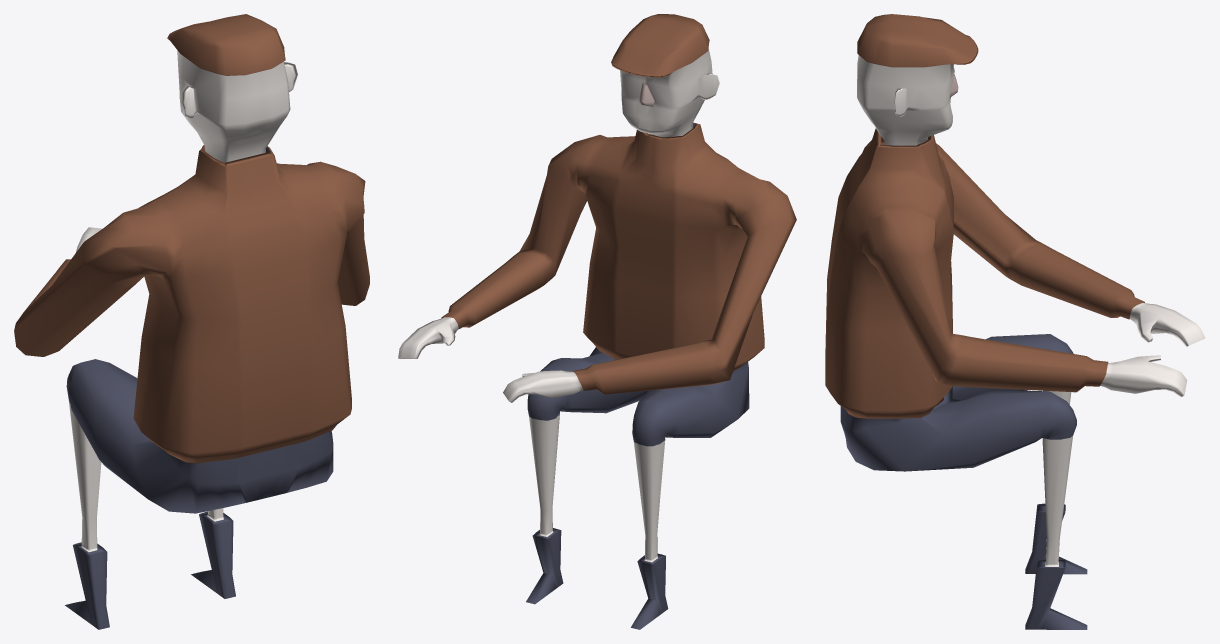
Rendered from DepressedNerd.fbx.
3 views of the same model, side by side, from view 1: azimuth 30°, elevation 25°; view 2: azimuth 150°, elevation 25°; view 3: azimuth 270°, elevation 25° (orthographic). The views are drawn at different scales.
Parts seen in each view (by area): view 1: polySurface1, polySurface2; view 2: polySurface1, polySurface2; view 3: polySurface1, polySurface2.
Boxes of the visible parts, bbox=[...] form: polySurface1: bbox=[14, 145, 369, 629]; polySurface2: bbox=[167, 14, 297, 162]; polySurface1: bbox=[398, 122, 796, 629]; polySurface2: bbox=[611, 14, 719, 137]; polySurface1: bbox=[825, 128, 1205, 629]; polySurface2: bbox=[857, 14, 978, 145].
Bounding box in the file's own units: 4.73 × 8.89 × 5.34.
Materials: 1 (1 with a texture image).
